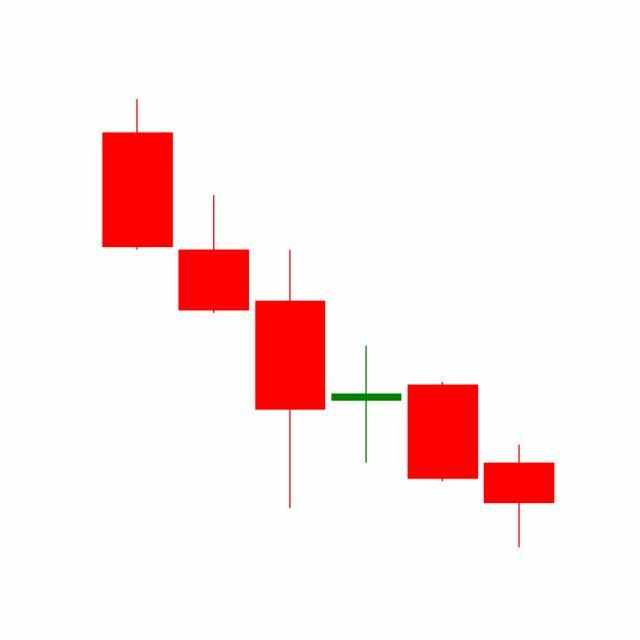Three Outside Up-Down: (326, 343, 555, 549)
